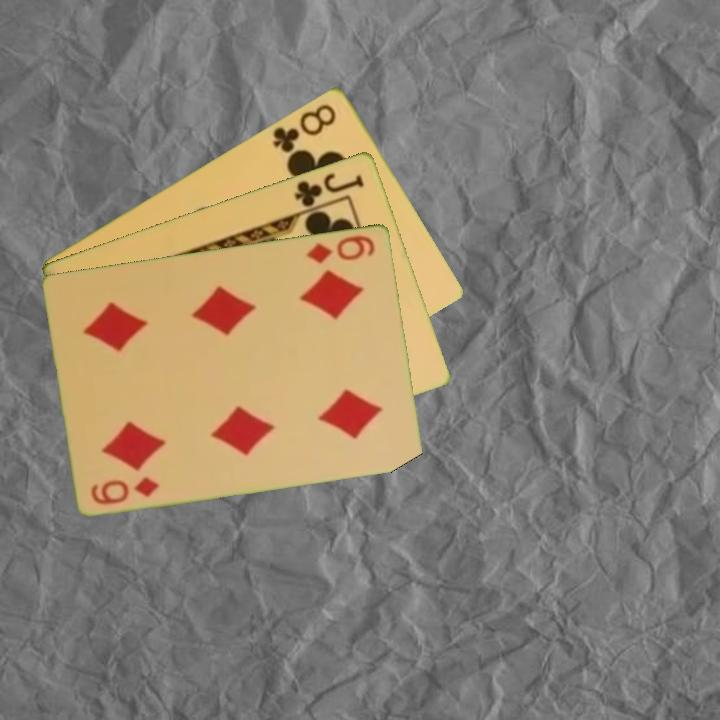6d: (303, 231, 379, 266), (87, 472, 162, 507)
8c: (269, 100, 340, 156)
Jc: (291, 169, 367, 210)
